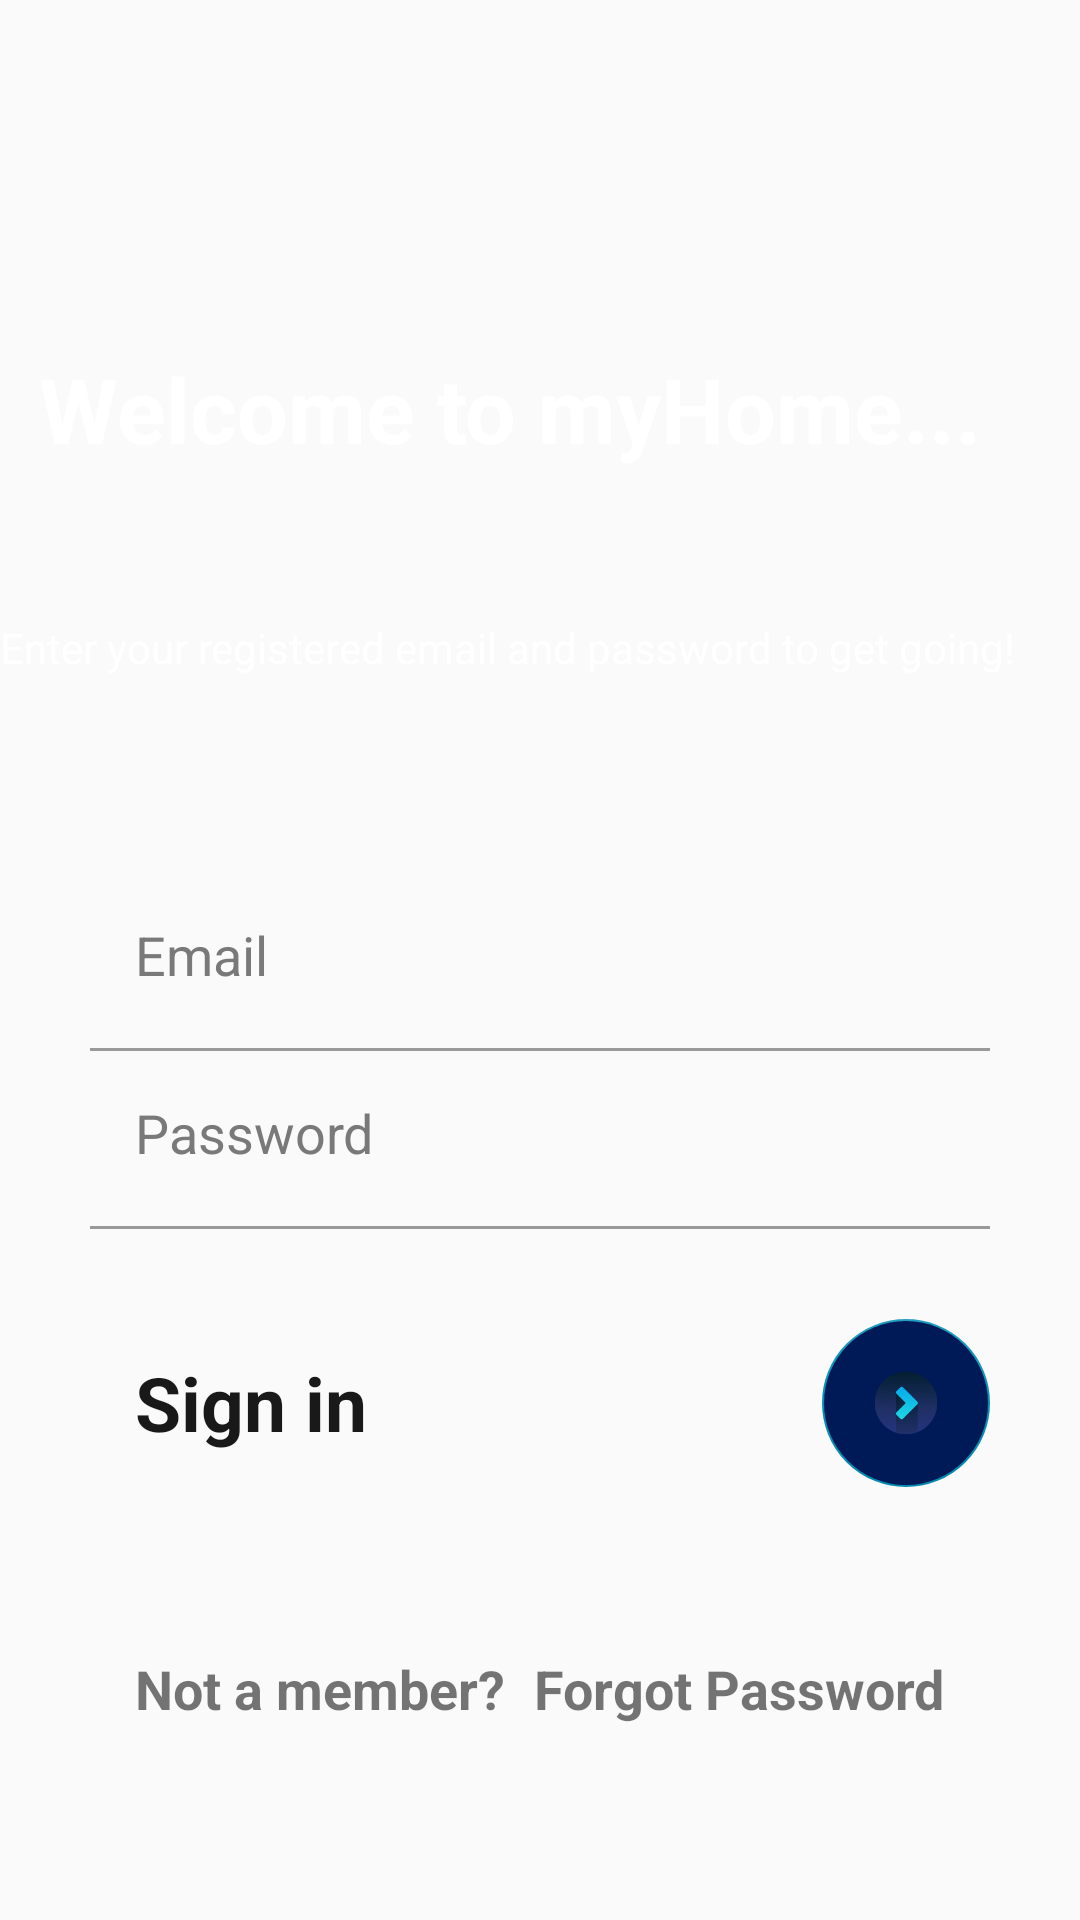

Where to tap for icons on this 1080 × 1920 app screen, as (x,y):
arrow forward: (906,1403)
